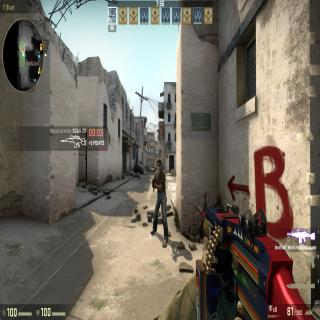T-Body: (150, 157, 169, 242)
T-Head: (156, 158, 162, 174)
